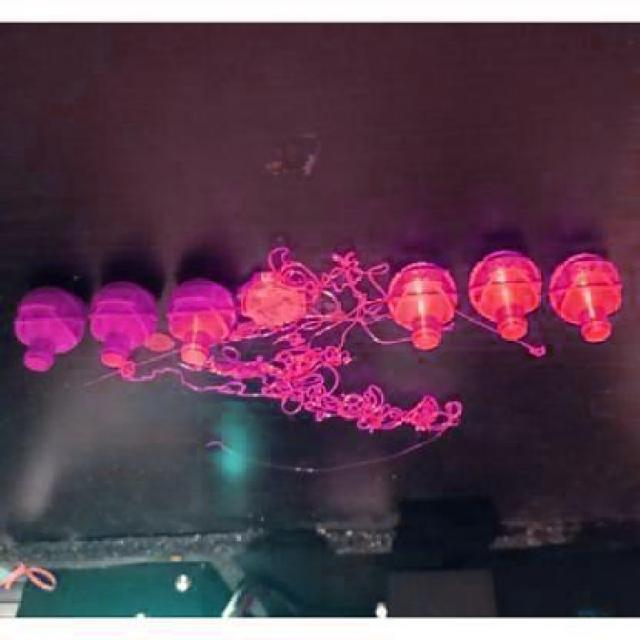spaghetti: (121, 354, 463, 439), (226, 246, 394, 357), (516, 339, 552, 359), (439, 319, 461, 338), (391, 336, 417, 350)
